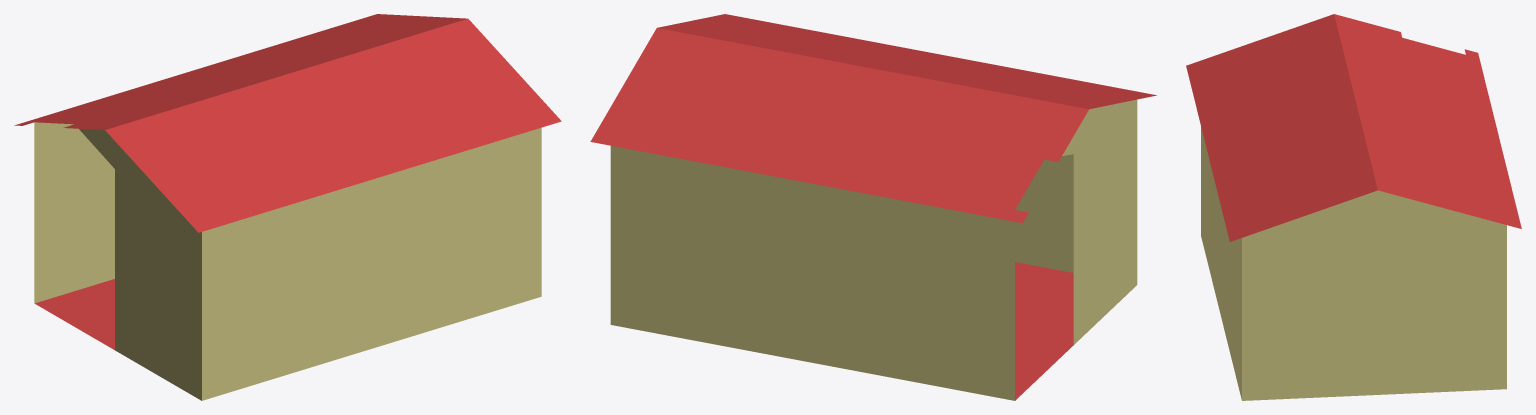
3 renders of one model, left to right at view 1: azimuth 30°, elevation 25°; view 2: azimuth 150°, elevation 25°; view 3: azimuth 270°, elevation 25°, orthographic. The views are drawn at different scales.
Bounding box in the file's own units: 16.41 × 12.3 × 8.5.
